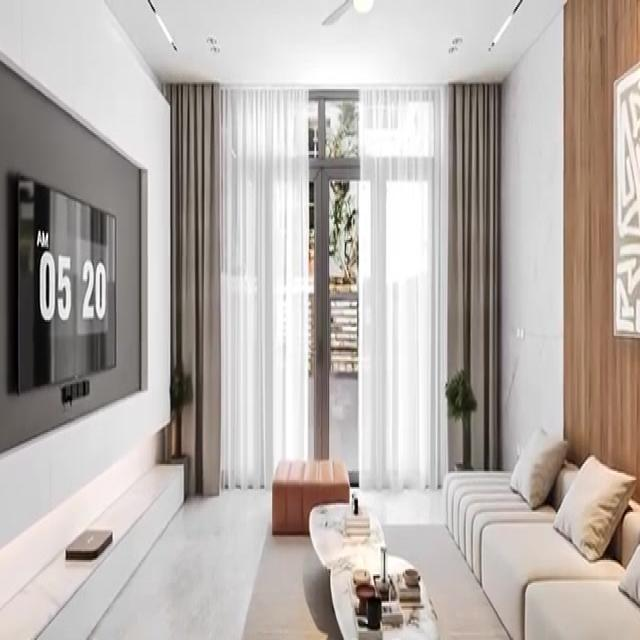obstacle: (441, 455, 639, 638), (310, 504, 437, 640), (272, 462, 350, 532)
